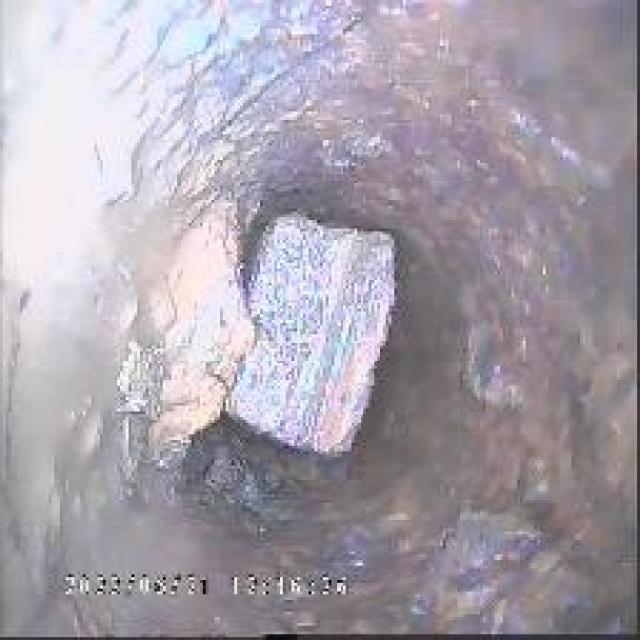stone: (223, 200, 397, 471)
